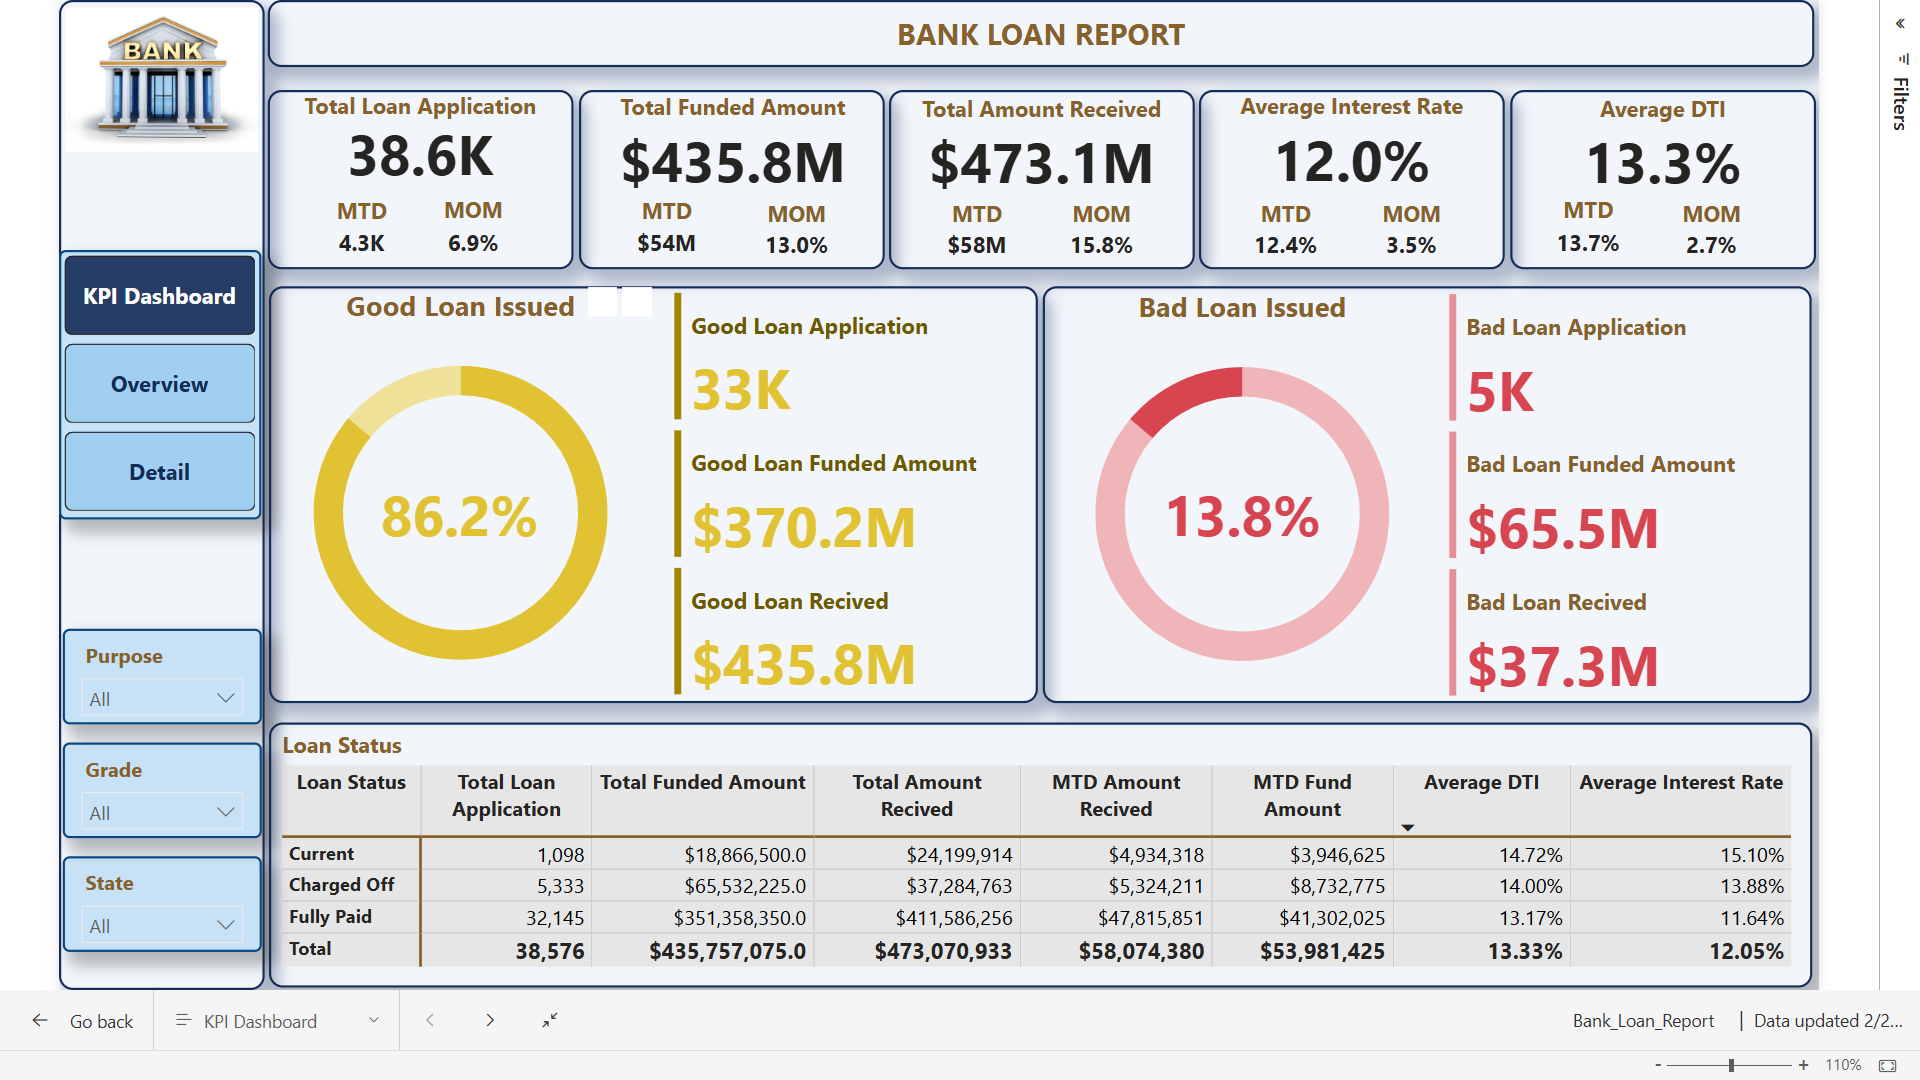

The page's visual inventory and layout, read from the dashboard file:
{"tool":"powerbi","page":{"name":"KPI Dashboard","canvas":[1280,720],"ordinal":0},"visuals":[{"type":"shape","box":[0,0,149.7,720.2],"z":0},{"type":"textbox","box":[152.1,0,1125.2,49.1],"z":1000},{"type":"image","box":[0,0,149.7,116.6],"z":2000},{"type":"shape","box":[152.1,65,222.1,130],"z":3000},{"type":"card","title":"MTD","fields":{"Values":["Measures Table.MTD"]},"box":[187.3,142.1,65.9,53],"z":4000},{"type":"card","title":"Total Loan Application","fields":{"Values":["Measures Table.Total Loan Application"]},"box":[152.1,65,222.1,69.9],"z":5000},{"type":"shape","box":[377.9,65.4,222.1,130],"z":6000},{"type":"shape","box":[603.7,65.4,222.1,130],"z":7000},{"type":"shape","box":[829.5,65.4,222.1,130],"z":8000},{"type":"shape","box":[1055.2,65.4,222.1,130],"z":9000},{"type":"card","title":"MOM","fields":{"Values":["Measures Table.MOM"]},"box":[268.7,140.8,64.6,54.2],"z":10000},{"type":"card","title":"Total Funded Amount","fields":{"Values":["Measures Table.Total Funded Amount"]},"box":[379.1,66.3,222.1,78.5],"z":11000},{"type":"card","title":"MTD","fields":{"Values":["Measures Table.MTD Total Fund Aount"]},"box":[409.4,142.1,65.9,53],"z":12000},{"type":"card","title":"MOM","fields":{"Values":["Measures Table.MOM Fund Amount"]},"box":[503.7,143.4,65.9,51.7],"z":13000},{"type":"card","title":"Total Amount Received","fields":{"Values":["Measures Table.Total Amount Recived"]},"box":[603.2,67.2,222.2,78.8],"z":14000},{"type":"card","title":"MTD","fields":{"Values":["Measures Table.MTD Total Amount Recived"]},"box":[635.5,143.4,64.6,51.7],"z":15000},{"type":"card","title":"MOM","fields":{"Values":["Measures Table.MOM Total Amount Recived"]},"box":[725.9,143.4,65.9,51.7],"z":16000},{"type":"card","title":"Average  Interest Rate","fields":{"Values":["Measures Table.Average Interest Rate"]},"box":[829.2,65.9,222.2,78.8],"z":17000},{"type":"card","title":"MTD","fields":{"Values":["Measures Table.MTD Average Interest Rate"]},"box":[860.2,143.4,64.6,51.7],"z":18000},{"type":"card","title":"MOM","fields":{"Values":["Measures Table.MOM Average Interest Rate"]},"box":[950.6,143.4,65.9,51.7],"z":19000},{"type":"card","title":"Average  DTI","fields":{"Values":["Measures Table.Average Debt-to-Income"]},"box":[1055.3,67.2,222.2,78.8],"z":20000},{"type":"card","title":"MTD","fields":{"Values":["Measures Table.MTD Average DTI"]},"box":[1079.8,140.8,64.6,54.2],"z":21000},{"type":"card","title":"MOM","fields":{"Values":["Measures Table.MOM Average DTI"]},"box":[1168.9,143.4,65.9,51.7],"z":22000},{"type":"shape","box":[152.4,208,559,303.5],"z":23000},{"type":"donutChart","title":"Good Loan Issued","fields":{"Y":["Measures Table.Total Loan Application"],"Category":["bank_loan.Good Vs Bad Loan"]},"box":[152.4,208,279,303.5],"z":24000},{"type":"card","title":"Average  Interest Rate","fields":{"Values":["Measures Table.Good Loan %"]},"box":[213.1,343.6,157.6,60.7],"z":25000},{"type":"shape","box":[715.6,208,559,303.5],"z":26000},{"type":"cardVisual","fields":{"Data":["Measures Table.Good Loan Application","Measures Table.Good Loan Funded Amount","Measures Table.Good Loan Recived"]},"box":[443,208,268.7,303.5],"z":27000},{"type":"donutChart","title":"Bad Loan Issued","fields":{"Y":["Measures Table.Total Loan Application"],"Category":["bank_loan.Good Vs Bad Loan"]},"box":[715.6,209.2,290.6,303.5],"z":28000},{"type":"cardVisual","fields":{"Data":["Measures Table.Bad Loan Application","Measures Table.Bad Loan Funded Amount","Measures Table.Bad Loan Recived"]},"box":[1006.2,209.2,268.7,303.5],"z":29000},{"type":"card","title":"Average  Interest Rate","fields":{"Values":["Measures Table.Bad Loan %"]},"box":[781.4,343.6,157.6,60.7],"z":30000},{"type":"pivotTable","title":"Loan Status","fields":{"Rows":["bank_loan.loan_status"],"Values":["Measures Table.Total Loan Application","Measures Table.Total Funded Amount","Measures Table.Total Amount Recived","Measures Table.MTD Total Amount Recived","Measures Table.MTD Total Fund Aount","Measures Table.Average Debt-to-Income","Measures Table.Average Interest Rate"]},"box":[152.4,525.7,1122.4,192.5],"z":31000},{"type":"slicer","fields":{"Values":["bank_loan.purpose"]},"box":[2.6,457.2,144.7,69.7],"z":32000},{"type":"slicer","fields":{"Values":["bank_loan.grade"]},"box":[2.6,539.9,144.7,69.7],"z":33000},{"type":"slicer","fields":{"Values":["bank_loan.address_state"]},"box":[2.6,622.6,144.7,69.7],"z":34000},{"type":"pageNavigator","box":[0,182.1,147.2,196.3],"z":35000}]}

Visuals, with their boxes on the page's 1280x720 design canvas (x1, y1, x2, y2). These are canvas units, not pixel positions in the 1920x1080 screenshot, which may show the page scaled, cropped or inside an application window:
shape: 0,0,150,720
textbox: 152,0,1277,49
image: 0,0,150,117
shape: 152,65,374,195
"MTD" card: 187,142,253,195
"Total Loan Application" card: 152,65,374,135
shape: 378,65,600,195
shape: 604,65,826,195
shape: 830,65,1052,195
shape: 1055,65,1277,195
"MOM" card: 269,141,333,195
"Total Funded Amount" card: 379,66,601,145
"MTD" card: 409,142,475,195
"MOM" card: 504,143,570,195
"Total Amount Received" card: 603,67,825,146
"MTD" card: 636,143,700,195
"MOM" card: 726,143,792,195
"Average  Interest Rate" card: 829,66,1051,145
"MTD" card: 860,143,925,195
"MOM" card: 951,143,1016,195
"Average  DTI" card: 1055,67,1278,146
"MTD" card: 1080,141,1144,195
"MOM" card: 1169,143,1235,195
shape: 152,208,711,512
"Good Loan Issued" donutChart: 152,208,431,512
"Average  Interest Rate" card: 213,344,371,404
shape: 716,208,1275,512
cardVisual - Measures Table.Good Loan Application x Measures Table.Good Loan Funded Amount: 443,208,712,512
"Bad Loan Issued" donutChart: 716,209,1006,513
cardVisual - Measures Table.Bad Loan Application x Measures Table.Bad Loan Funded Amount: 1006,209,1275,513
"Average  Interest Rate" card: 781,344,939,404
"Loan Status" pivotTable: 152,526,1275,718
slicer - bank_loan.purpose: 3,457,147,527
slicer - bank_loan.grade: 3,540,147,610
slicer - bank_loan.address_state: 3,623,147,692
pageNavigator: 0,182,147,378
